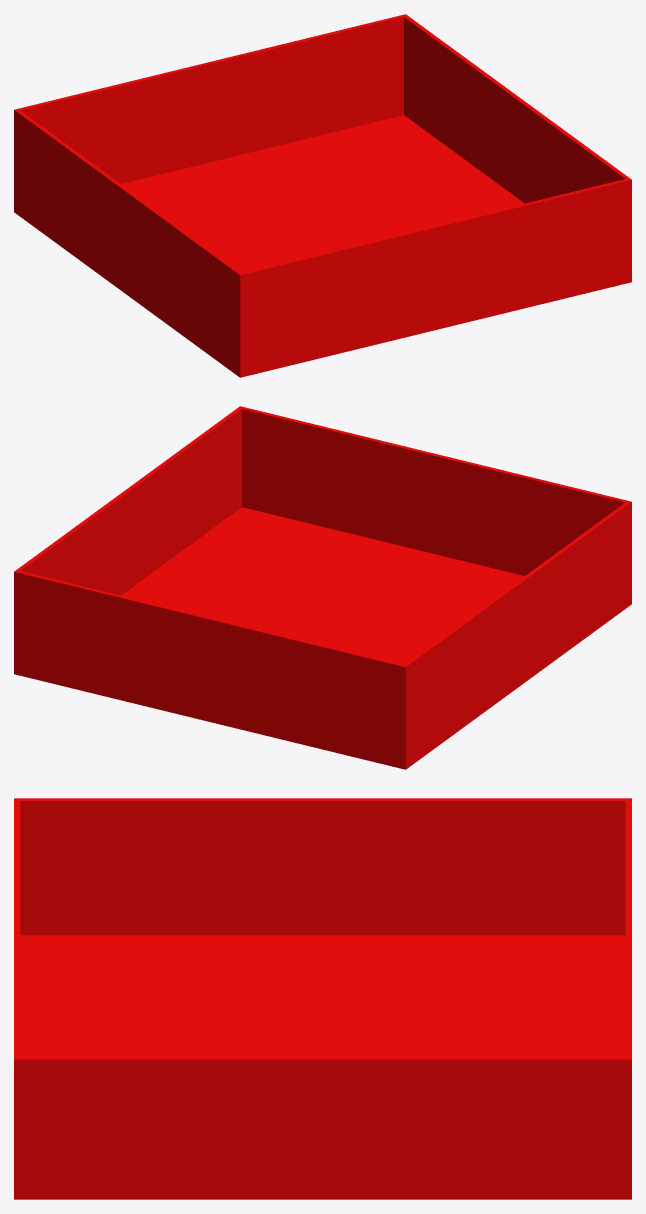
File: serial_test_example_fn_std-solid-appearance3_output.glb
The picture shows the model from 3 angles, top to bottom: view 1: azimuth 30°, elevation 25°; view 2: azimuth 150°, elevation 25°; view 3: azimuth 270°, elevation 25°; orthographic projection. The views are drawn at different scales.
Size of the model in its own units: 0.024 by 0.006 by 0.024.
